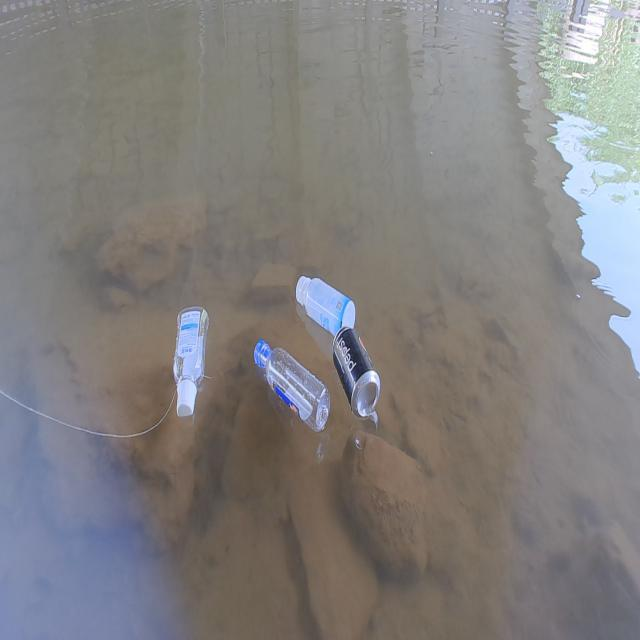bottle: (246, 334, 336, 434), (164, 301, 214, 425), (289, 273, 358, 330)
